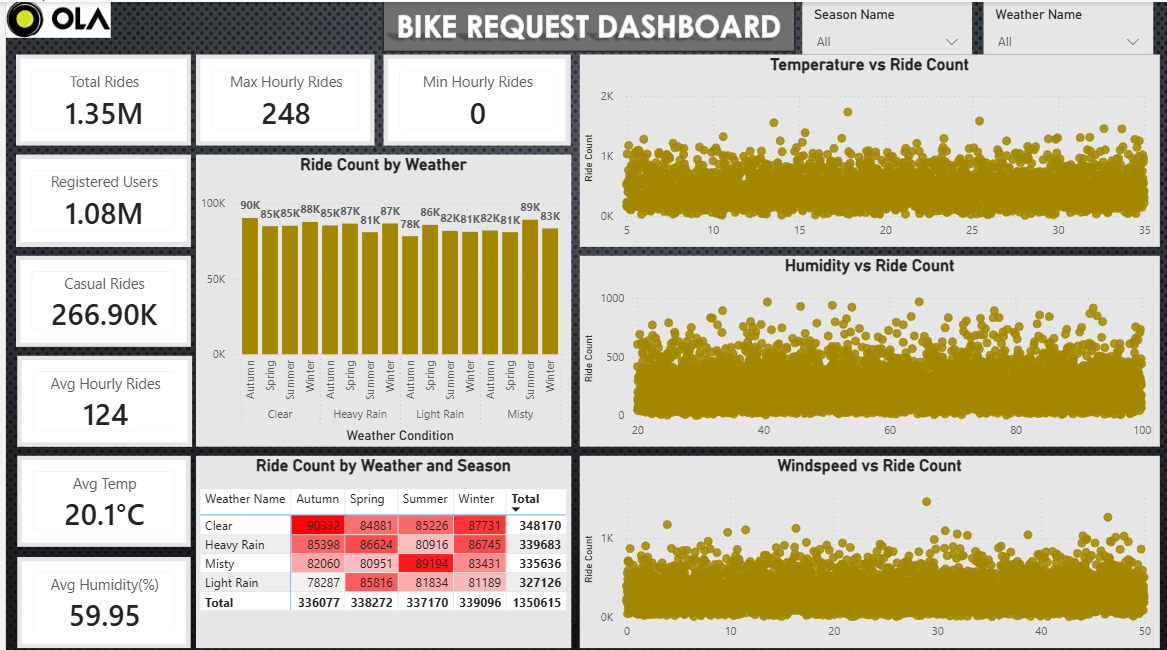

Layout of this report page (visuals, bound fields, positions):
{"tool":"powerbi","page":{"name":"Weather Analysis","canvas":[1280,720],"ordinal":2},"visuals":[{"type":"cardVisual","fields":{"Data":["Sum(OLA.Count)"]},"box":[11,57.6,192.1,100.2],"z":0},{"type":"cardVisual","fields":{"Data":["Max(OLA.Count)"]},"box":[208.6,57.6,196.2,100.2],"z":1000},{"type":"cardVisual","fields":{"Data":["OLA.AvgTemp"]},"box":[12.3,498.1,190.7,100.2],"z":2000},{"type":"cardVisual","fields":{"Data":["Min(OLA.Count)"]},"box":[414.4,57.6,205.8,100.2],"z":3000},{"type":"cardVisual","fields":{"Data":["Sum(OLA.Registered)"]},"box":[11,167.4,192.1,101.5],"z":4000},{"type":"cardVisual","fields":{"Data":["Sum(OLA.Casual)"]},"box":[11,278.6,192.1,100.2],"z":5000},{"type":"cardVisual","fields":{"Data":["OLA.Avg Hourly Rides"]},"box":[12.3,388.3,192.1,100.2],"z":6000},{"type":"cardVisual","fields":{"Data":["OLA.Average Humidity"]},"box":[12.3,609.3,190.7,100.2],"z":7000},{"type":"scatterChart","title":"Temperature vs Ride Count","fields":{"X":["OLA.Temperature"],"Y":["Sum(OLA.Count)"]},"box":[629.8,57.6,636.7,211.3],"z":8000},{"type":"clusteredColumnChart","title":"Ride Count by Weather","fields":{"Category":["OLA.Weather Name","OLA.Season Name"],"Y":["Sum(OLA.Count)"]},"box":[208.6,167.4,411.7,321.1],"z":9000},{"type":"scatterChart","title":"Humidity vs Ride Count","fields":{"X":["OLA.Humidity"],"Y":["Sum(OLA.Count)"]},"box":[629.8,278.6,636.7,209.9],"z":10000},{"type":"scatterChart","title":"Windspeed vs Ride Count","fields":{"X":["OLA.Windspeed"],"Y":["Sum(OLA.Count)"]},"box":[629.8,498.1,636.7,211.3],"z":11000},{"type":"pivotTable","title":"Ride Count by Weather and Season","fields":{"Columns":["OLA.Season Name"],"Rows":["OLA.Weather Name"],"Values":["Sum(OLA.Count)"]},"box":[208.6,498.1,411.7,211.3],"z":12000},{"type":"slicer","fields":{"Values":["OLA.Season Name"]},"box":[874.1,0,186.6,57.6],"z":12001},{"type":"slicer","fields":{"Values":["OLA.Weather Name"]},"box":[1073.1,0,186.6,57.6],"z":12002}]}

Visuals, with their boxes in screenshot pixels (x1, y1, x2, y2), scaled from the page's 1280x720 canvas onto the 1167x650 screenshot:
cardVisual - Sum(OLA.Count): detection(10, 52, 185, 142)
cardVisual - Max(OLA.Count): detection(190, 52, 369, 142)
cardVisual - OLA.AvgTemp: detection(11, 450, 185, 540)
cardVisual - Min(OLA.Count): detection(378, 52, 565, 142)
cardVisual - Sum(OLA.Registered): detection(10, 151, 185, 243)
cardVisual - Sum(OLA.Casual): detection(10, 252, 185, 342)
cardVisual - OLA.Avg Hourly Rides: detection(11, 351, 186, 441)
cardVisual - OLA.Average Humidity: detection(11, 550, 185, 641)
"Temperature vs Ride Count" scatterChart: detection(574, 52, 1155, 243)
"Ride Count by Weather" clusteredColumnChart: detection(190, 151, 566, 441)
"Humidity vs Ride Count" scatterChart: detection(574, 252, 1155, 441)
"Windspeed vs Ride Count" scatterChart: detection(574, 450, 1155, 640)
"Ride Count by Weather and Season" pivotTable: detection(190, 450, 566, 640)
slicer - OLA.Season Name: detection(797, 0, 967, 52)
slicer - OLA.Weather Name: detection(978, 0, 1148, 52)
